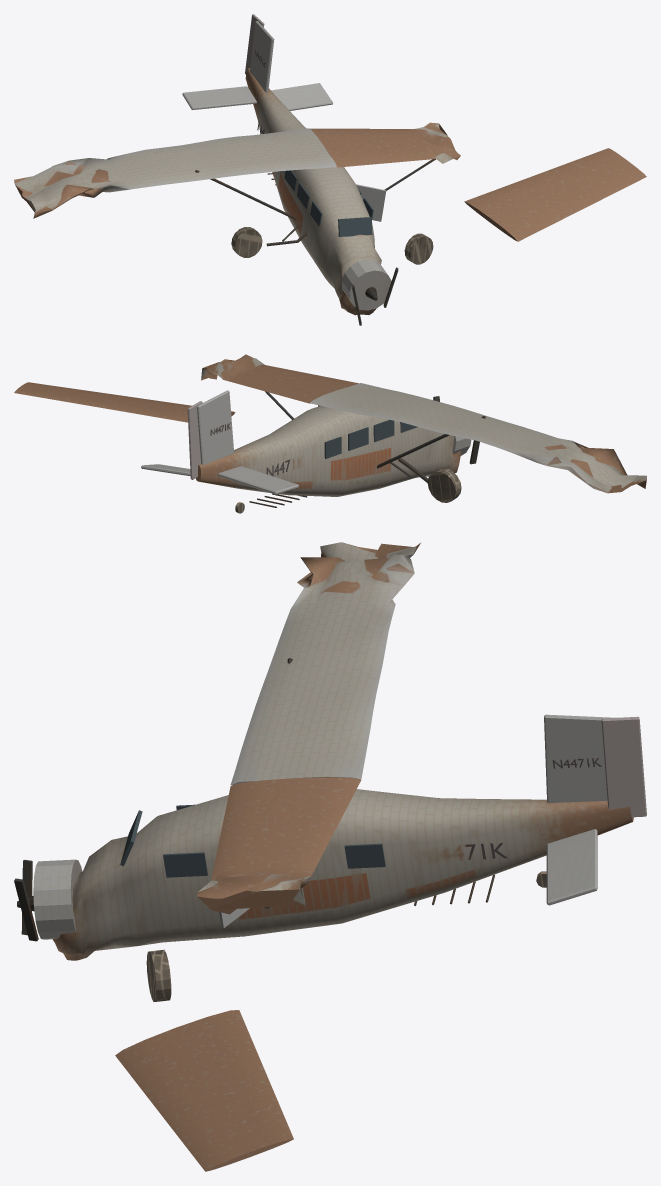
File: table-plane-wreck.glb
The picture shows the model from 3 angles, top to bottom: view 1: azimuth 30°, elevation 25°; view 2: azimuth 150°, elevation 25°; view 3: azimuth 270°, elevation 25°; orthographic projection. The views are drawn at different scales.
Visible parts, largest first — view 1: table-plane-wreck; view 2: table-plane-wreck; view 3: table-plane-wreck.
Part boxes in pixels (x1,y1,x2,y2): table-plane-wreck: (14, 14, 646, 325); table-plane-wreck: (14, 354, 646, 513); table-plane-wreck: (14, 542, 646, 1171).
Bounding box in the file's own units: 14.99 × 4.13 × 8.3.
Materials: 3 (1 with a texture image).
